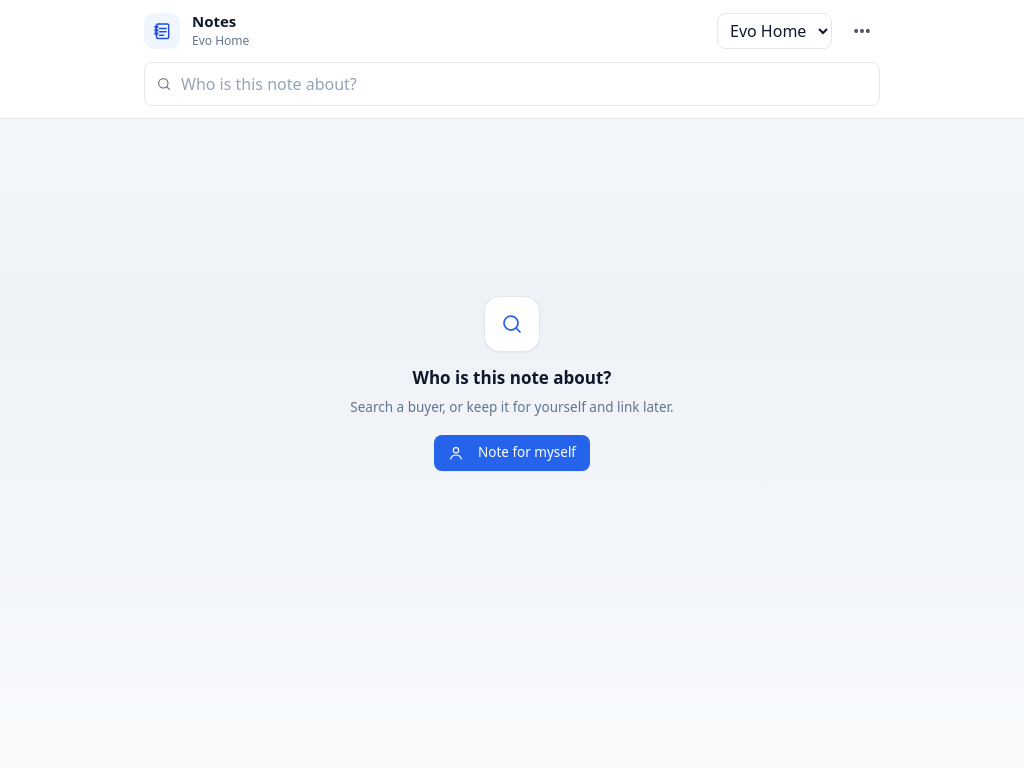
VisitNotesApp › keeps conversation language select at 16px to avoid iOS zoom
Type "Ada" into the field with placeholder "Who is this note about?" at [512, 84], box [144,62,880,106]
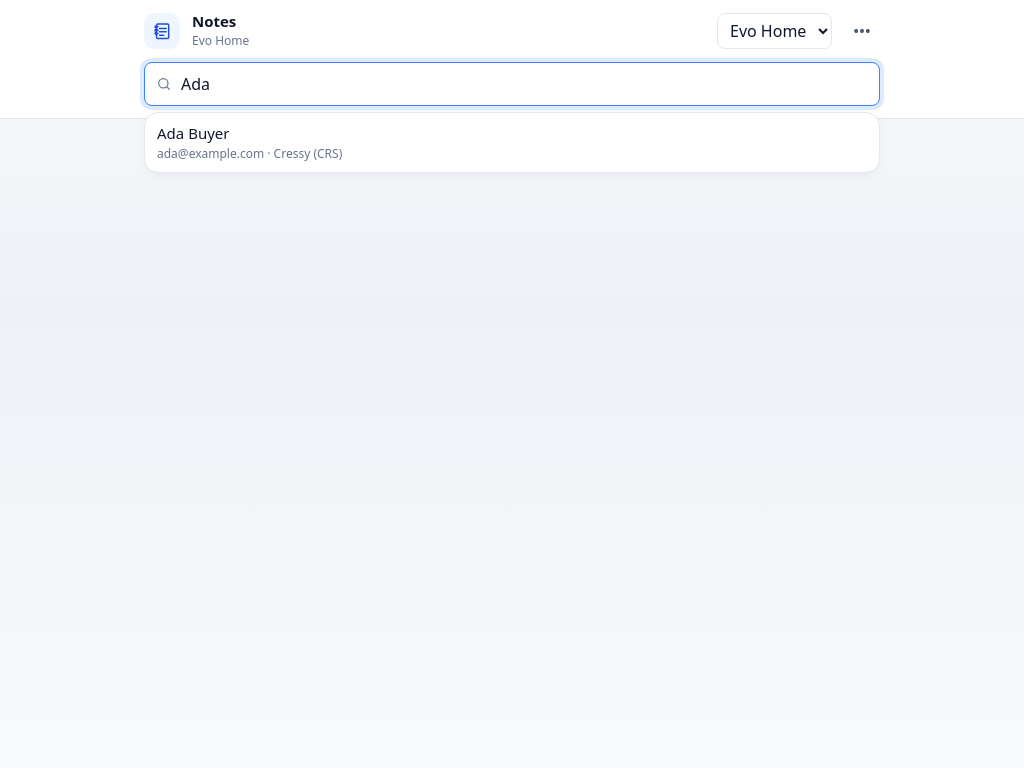
Expected: the text "Ada Buyer" is shown, [157,123,230,143]
Expected: the text "ada@example.com · Cressy (CRS)" is shown, [157,145,342,162]
Click the button with test id "notes-lead-hit" at [193, 133], box [145,113,879,172]
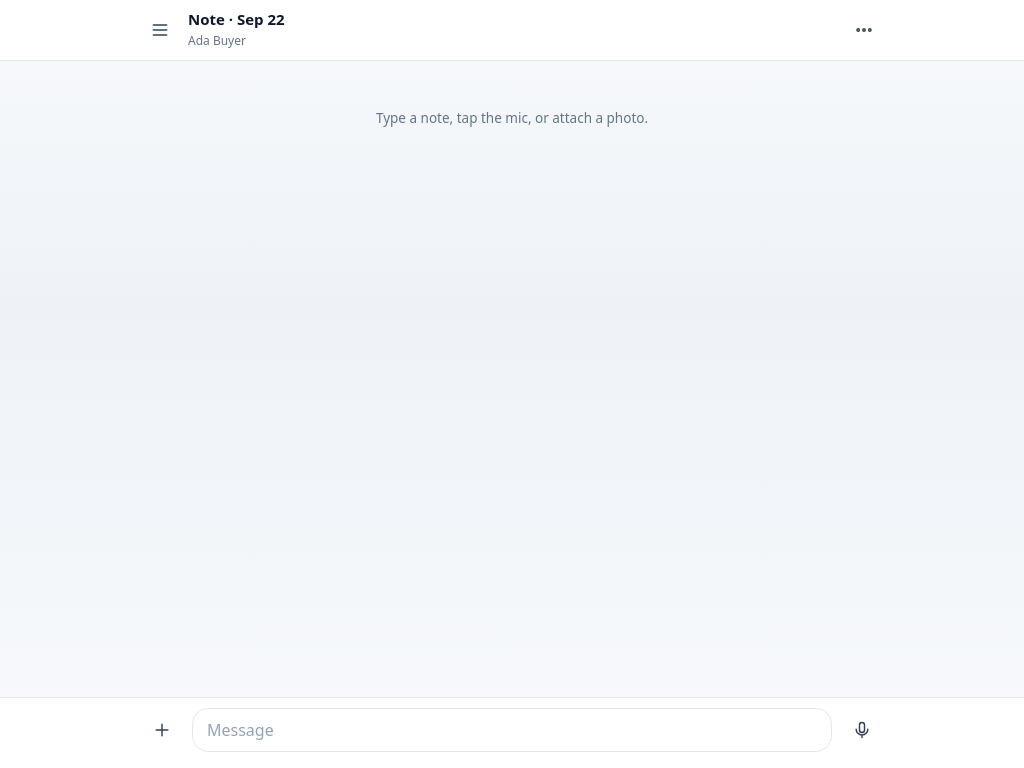
Expected: the text box named "note message" is shown
Type "Site visit note" into the text box named "note message" at [512, 730], box [192,708,832,752]
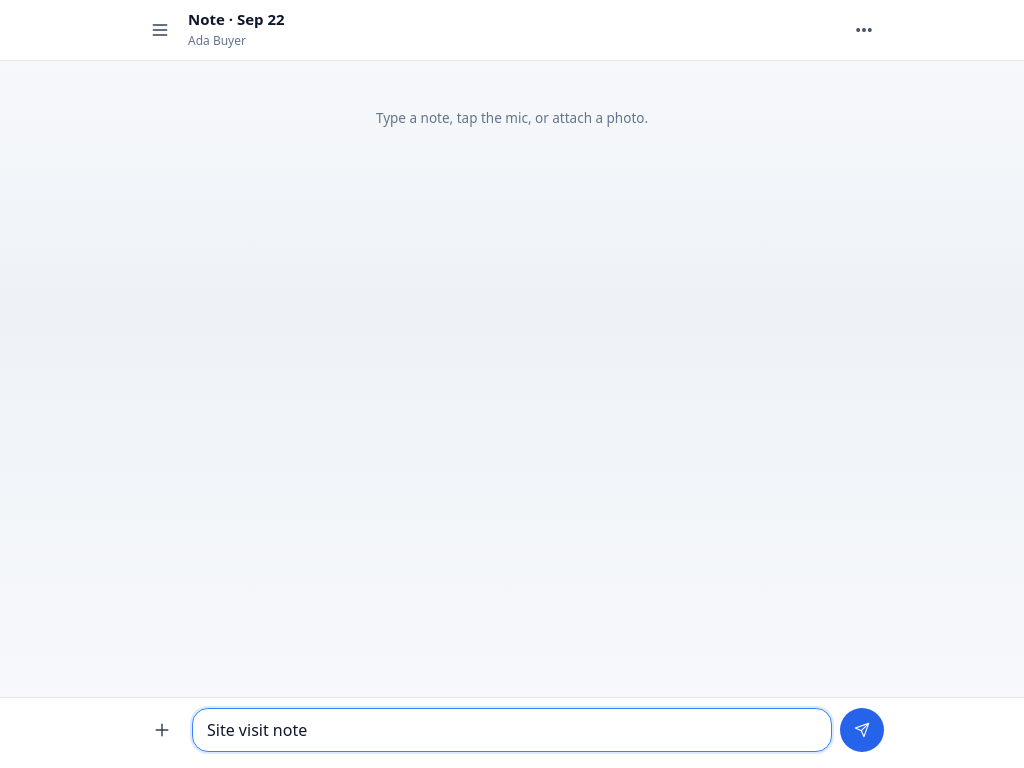
Click the button named "send note" at [862, 730], box [840,708,884,752]
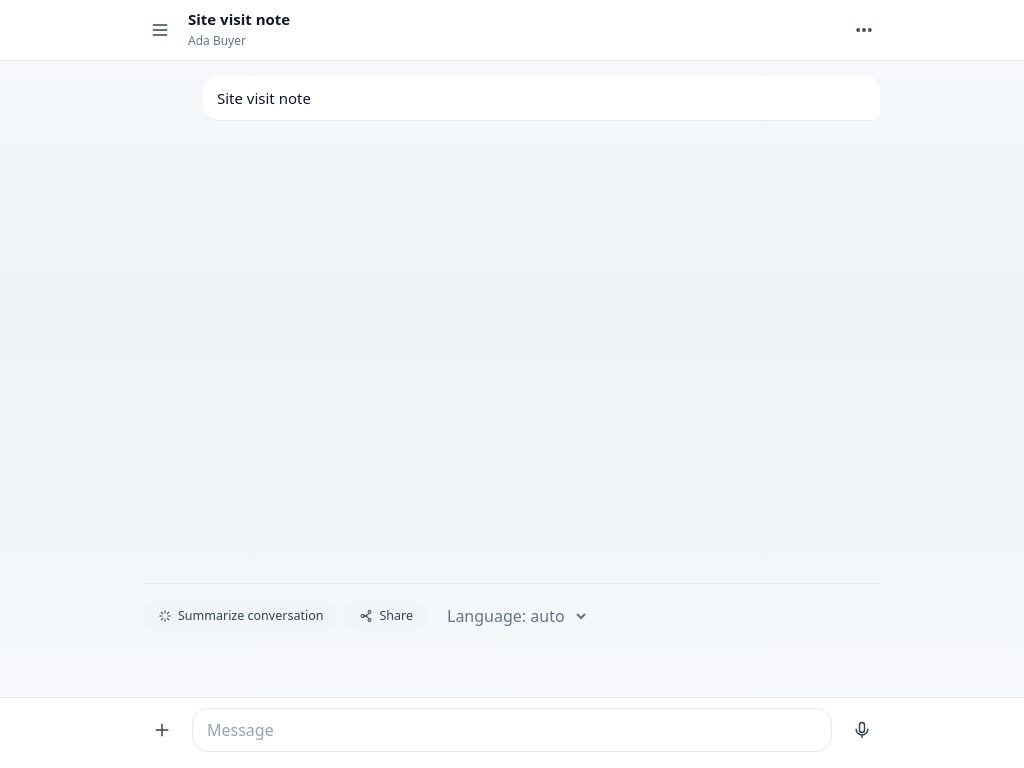
Expected: the element with test id "after-capture-actions" is shown, [144,583,880,632]
